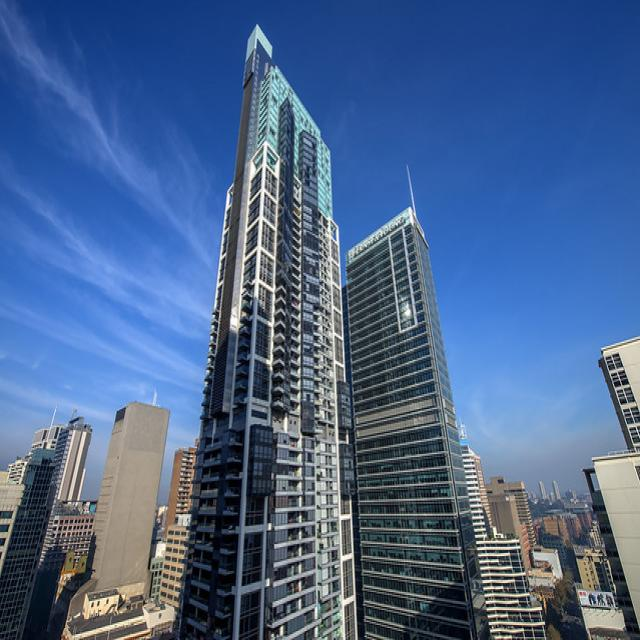Normal_building: (168, 18, 360, 638), (342, 202, 482, 636)
